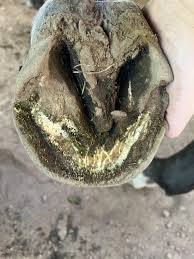horsesole: (11, 29, 173, 188)
